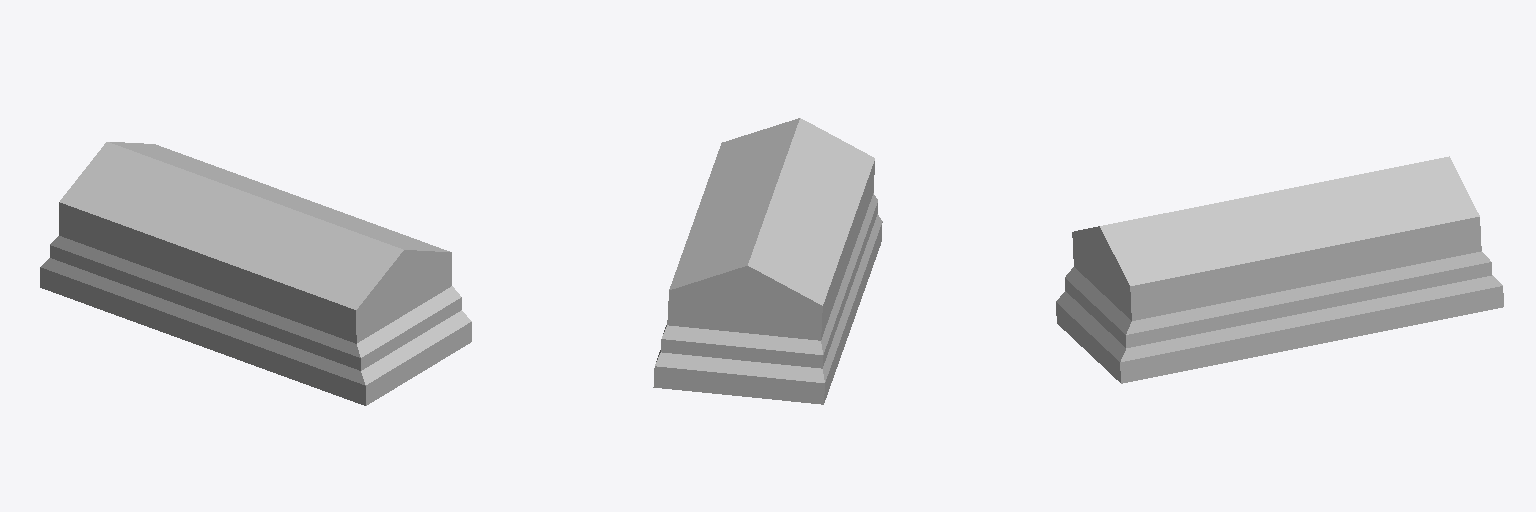
Rendered from Gravestone_Flat_4.obj.
3 views of the same model, side by side, from view 1: azimuth 30°, elevation 25°; view 2: azimuth 150°, elevation 25°; view 3: azimuth 270°, elevation 25° (orthographic).
Visible parts, largest first — view 1: Gravestone_Flat_4; view 2: Gravestone_Flat_4; view 3: Gravestone_Flat_4.
Part boxes in pixels (x1,y1,x2,y2): Gravestone_Flat_4: (40,142,471,405); Gravestone_Flat_4: (653,118,882,404); Gravestone_Flat_4: (1056,156,1503,383).
Size of the model in its own units: 0.8632 by 0.412 by 1.23.